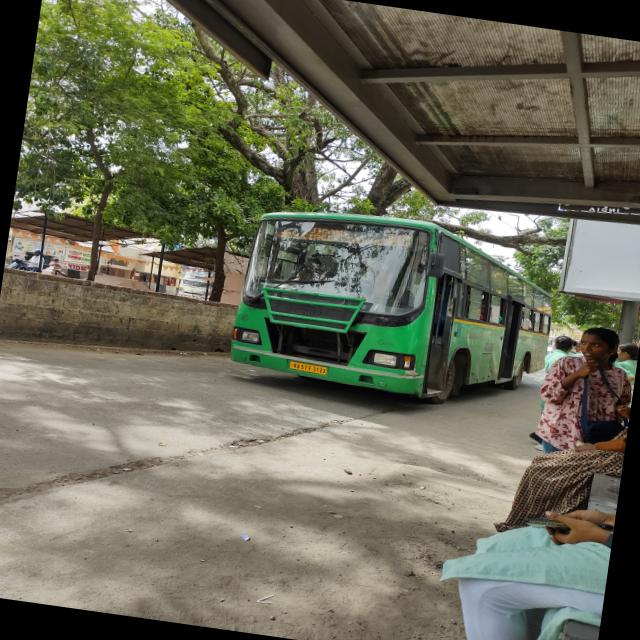bus: (219, 192, 563, 430)
display: (284, 214, 413, 256)
dnumber: (383, 232, 412, 250)
